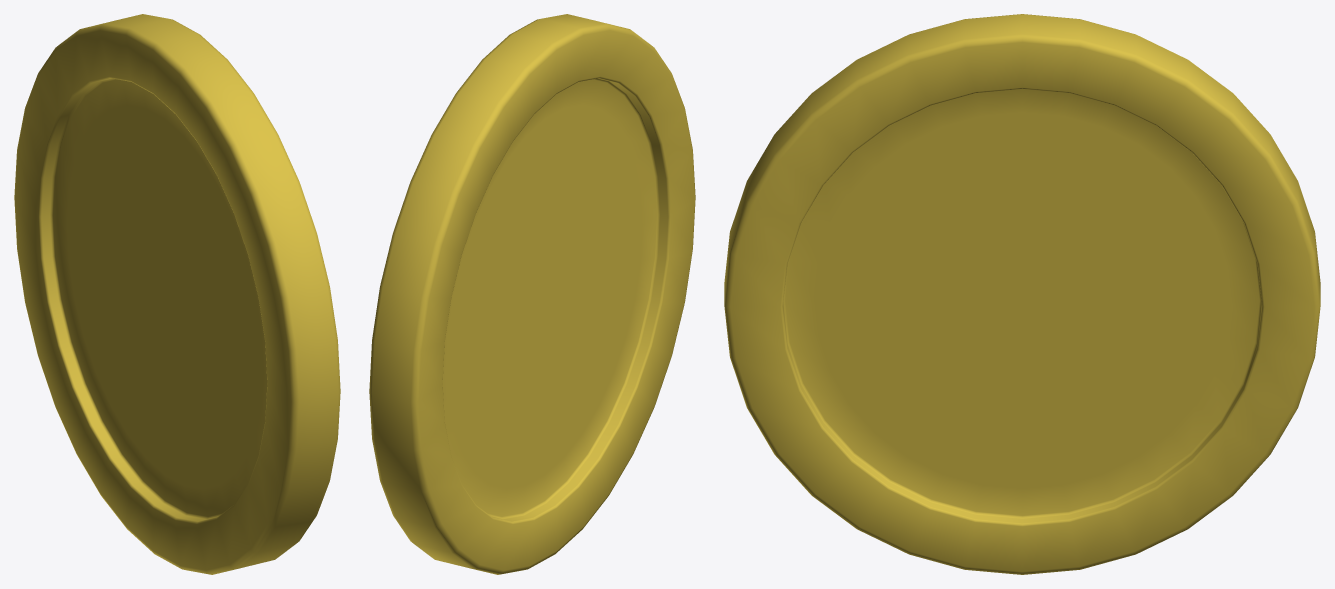
File: Coin.fbx
3 views of the same model, side by side, from view 1: azimuth 30°, elevation 25°; view 2: azimuth 150°, elevation 25°; view 3: azimuth 270°, elevation 25° (orthographic). The views are drawn at different scales.
Parts seen in each view (by area): view 1: Coin; view 2: Coin; view 3: Coin.
Part boxes in pixels (left/top/right/bottom): Coin: left=14, top=14, right=340, bottom=574; Coin: left=369, top=14, right=695, bottom=574; Coin: left=724, top=14, right=1320, bottom=574.
Bounding box in the file's own units: 3.06 × 30.56 × 30.56.
